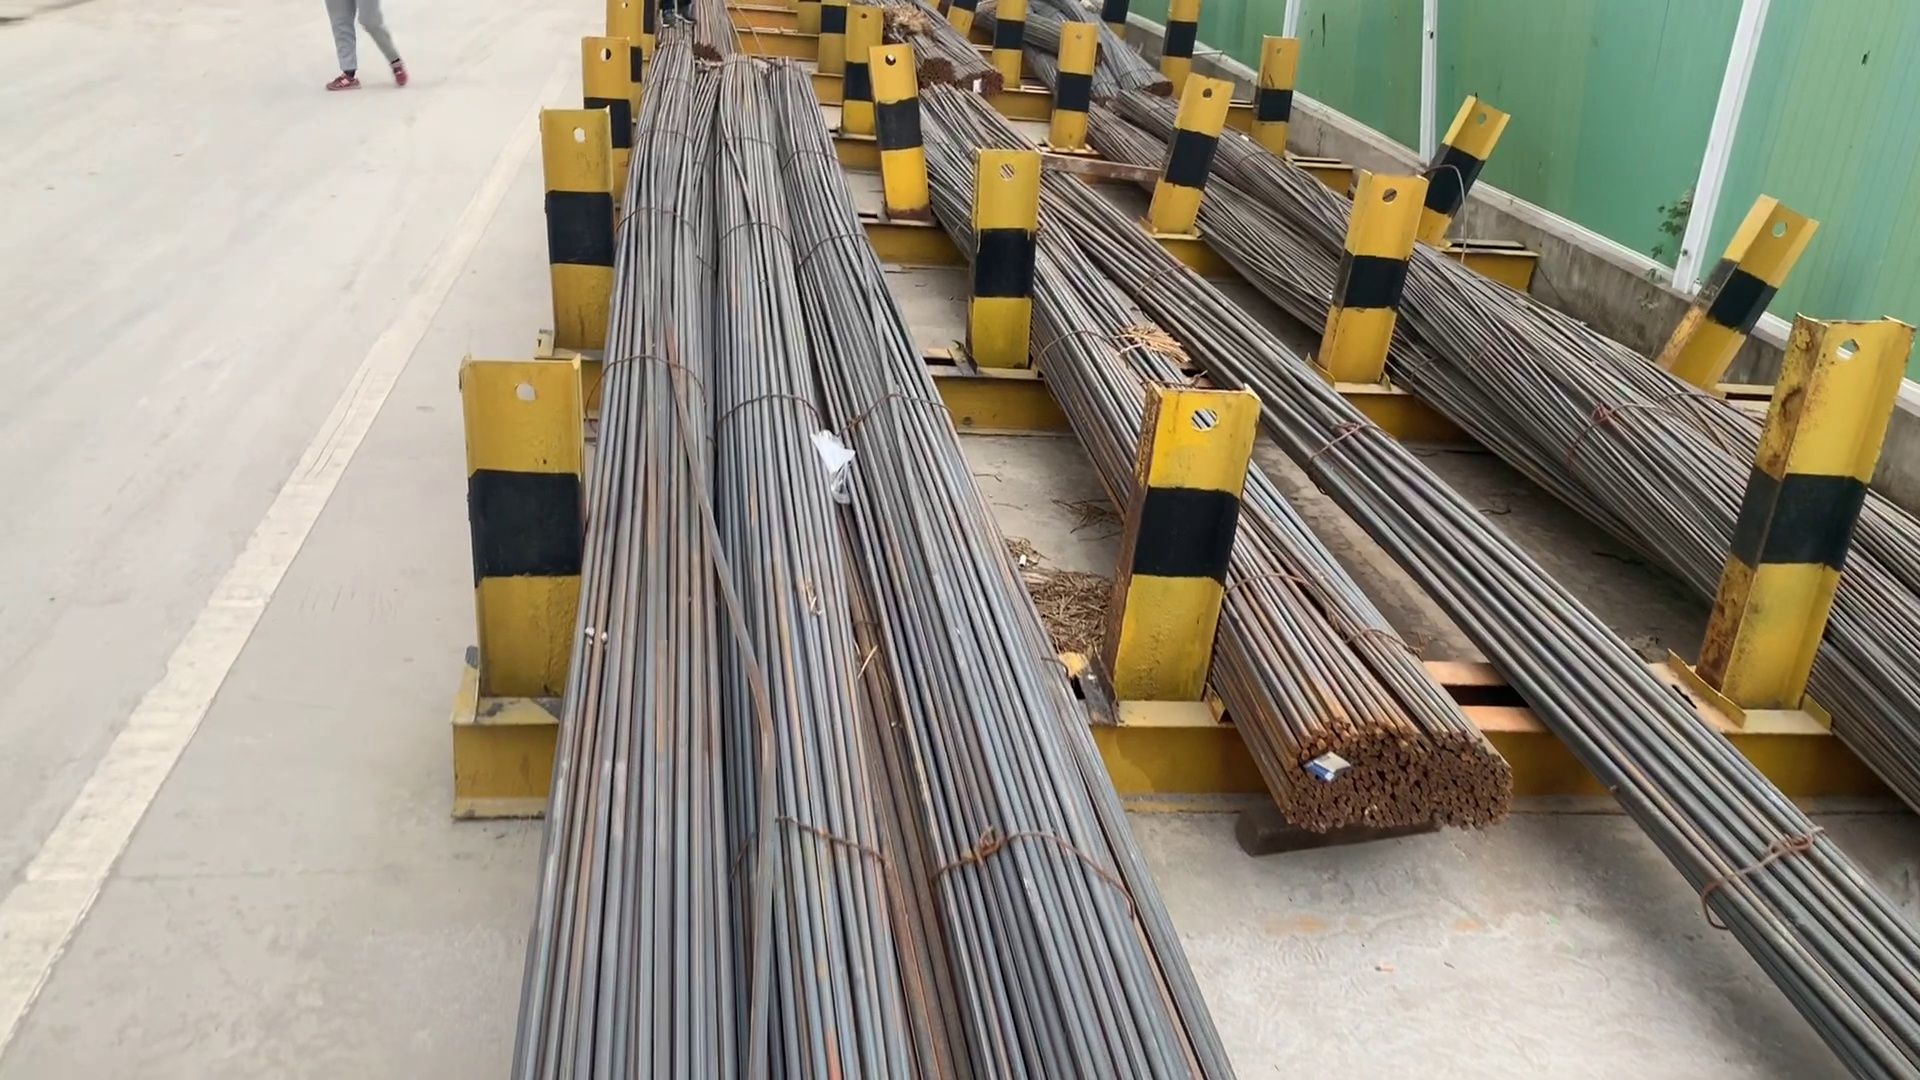rebar: (1273, 711, 1510, 833), (913, 49, 961, 88), (967, 65, 1002, 99), (1145, 76, 1179, 96)
